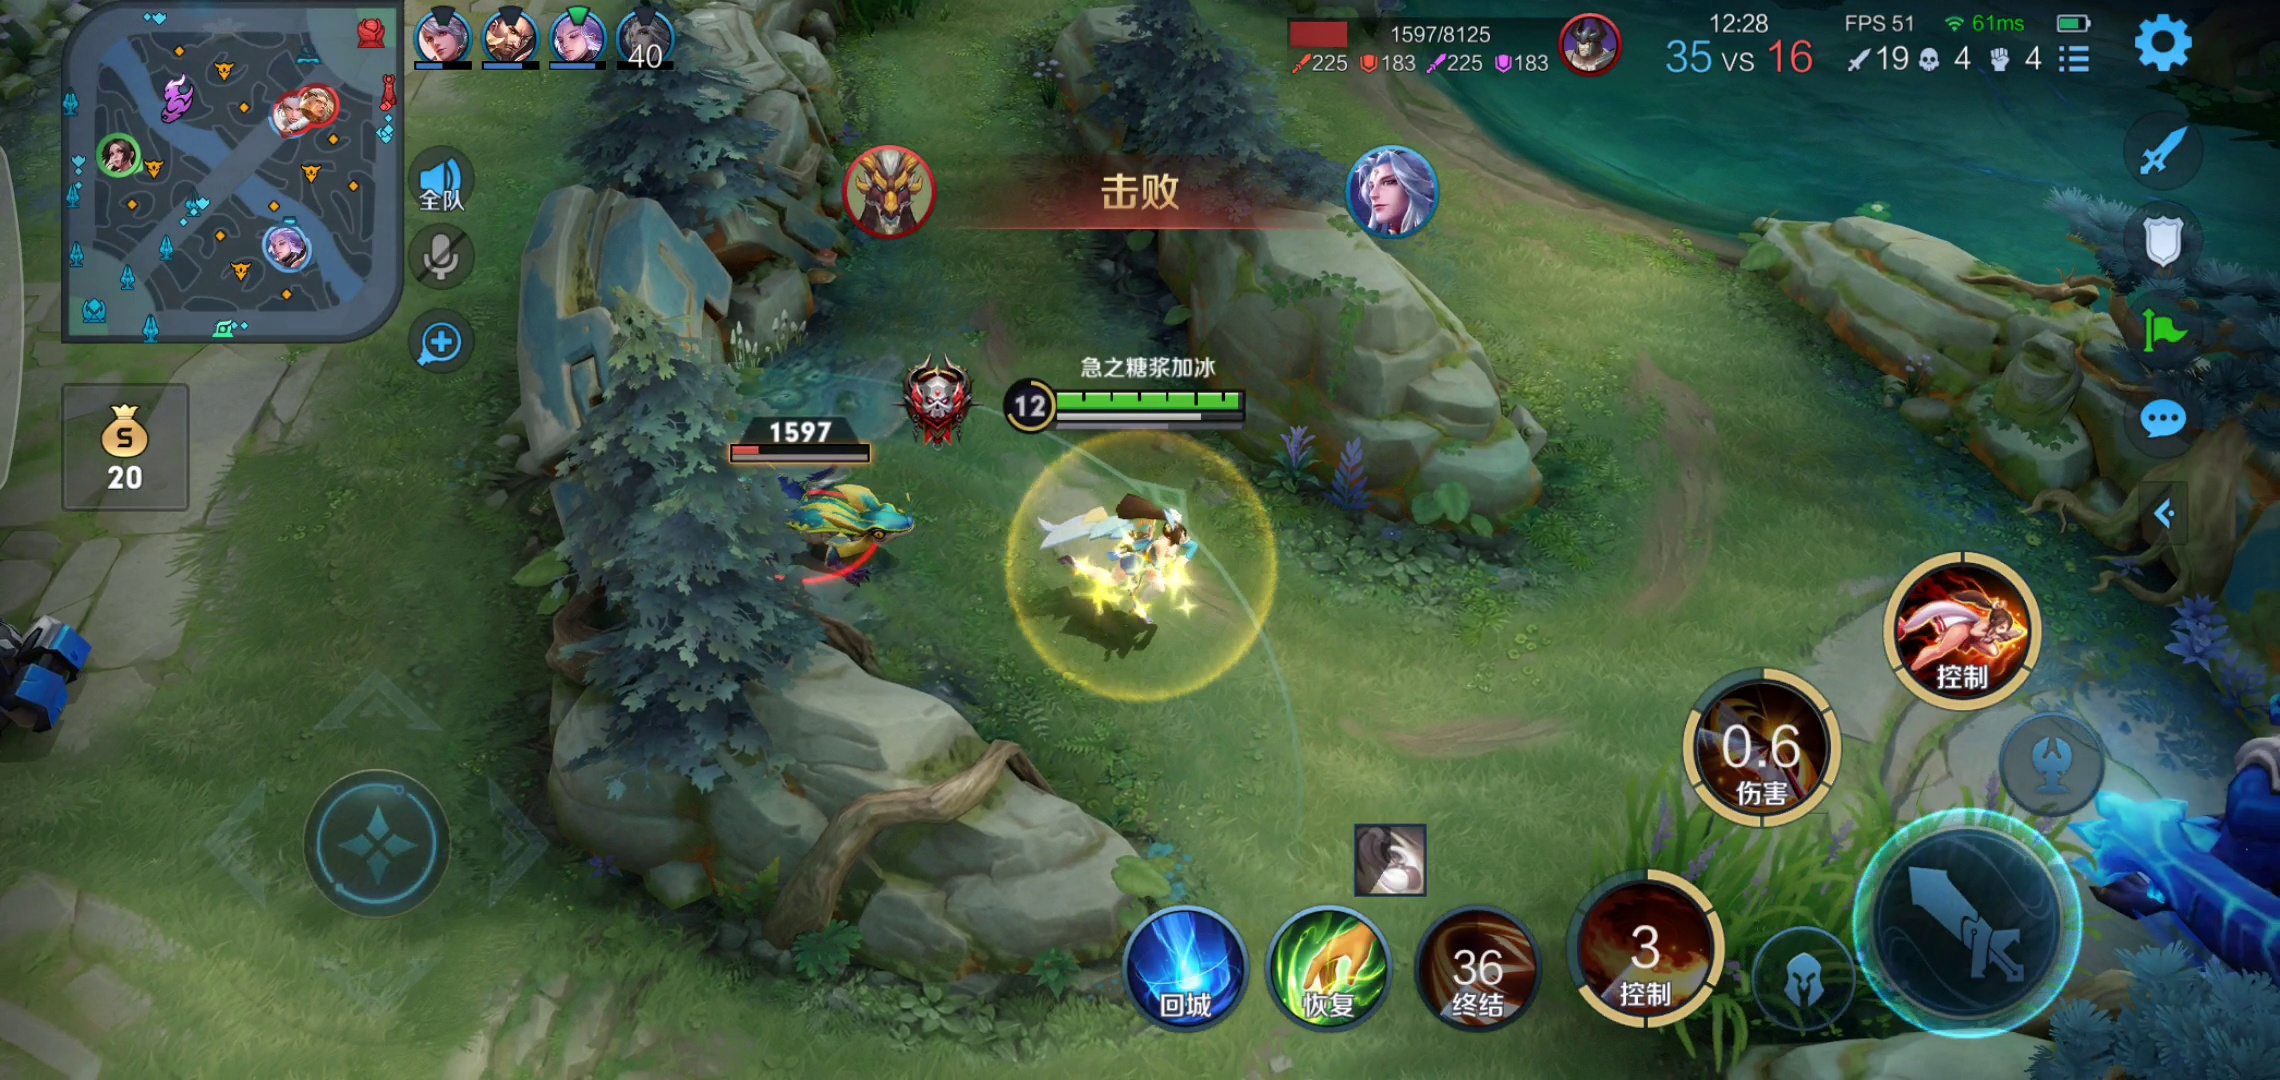buff: (2085, 674, 2280, 984)
grass: (1629, 810, 2010, 1028)
hero: (1040, 467, 1235, 656)
soldier: (1, 609, 89, 746)
wild_monster: (708, 424, 944, 613)
